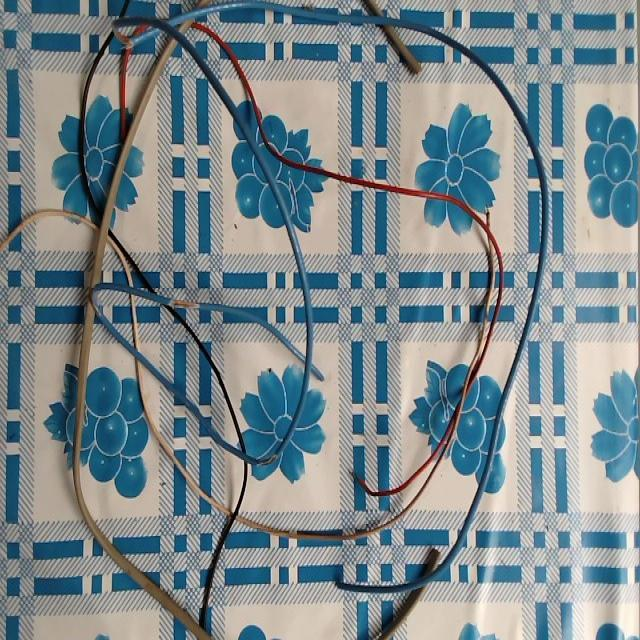-: (169, 295, 205, 313), (87, 283, 101, 317), (117, 34, 137, 54), (255, 451, 280, 465), (345, 465, 362, 484)
